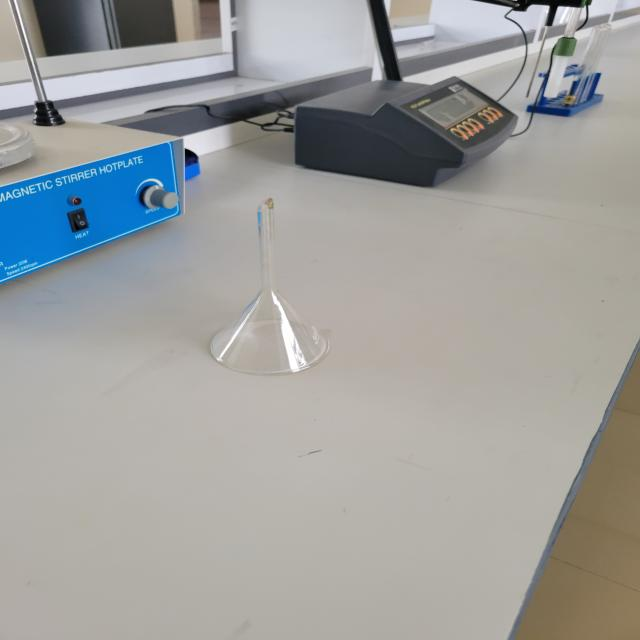Funnel: (160, 180, 386, 389)
